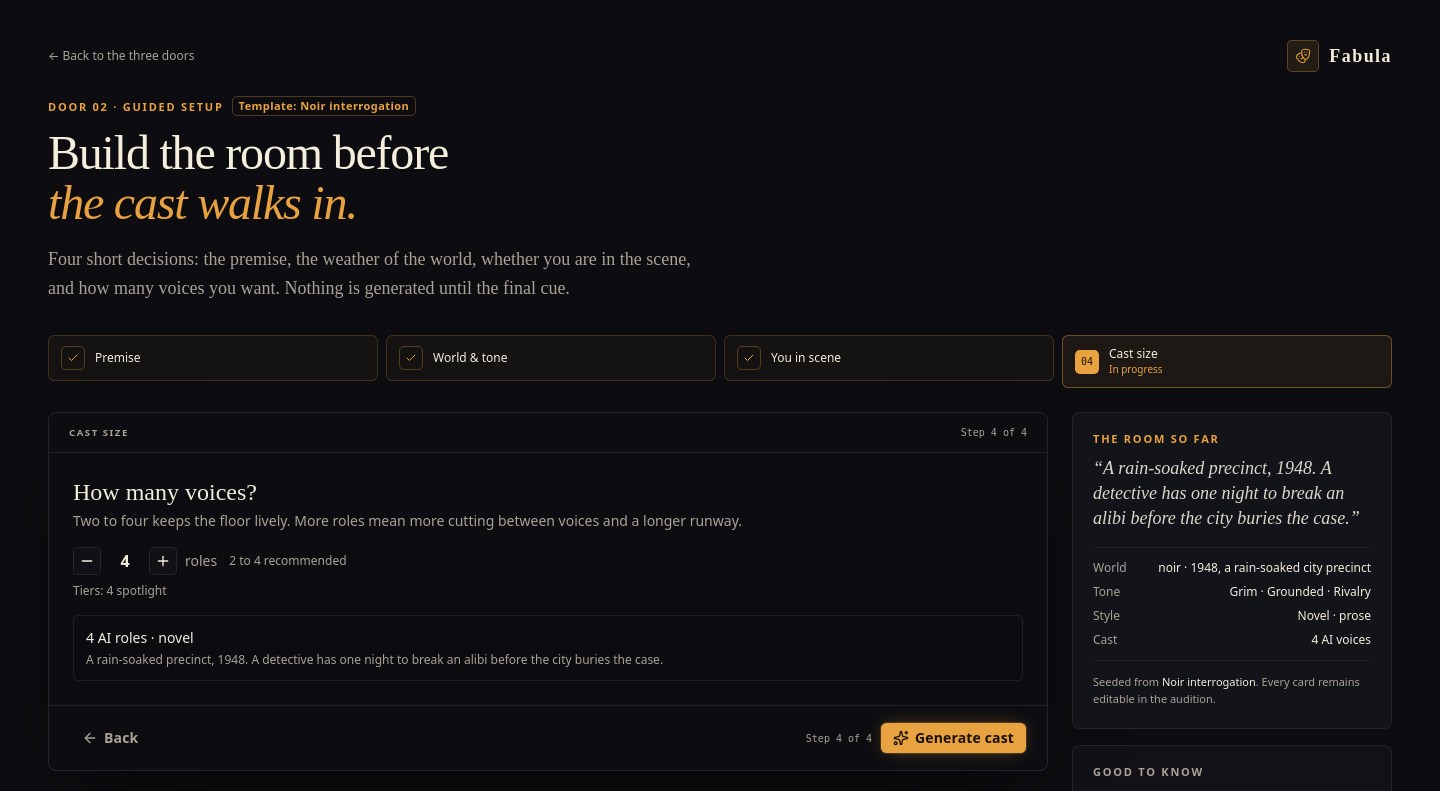
Scenario: guided wizard › cast step generates the troupe and hands off to the audition
expect the text "4 AI roles · novel" is shown: met, box x1=86 y1=628 x2=194 y2=647
Click the button "Generate cast". click: coordinates (954, 738)
box: x1=880 y1=722 x2=1027 y2=754
(page scrolled)
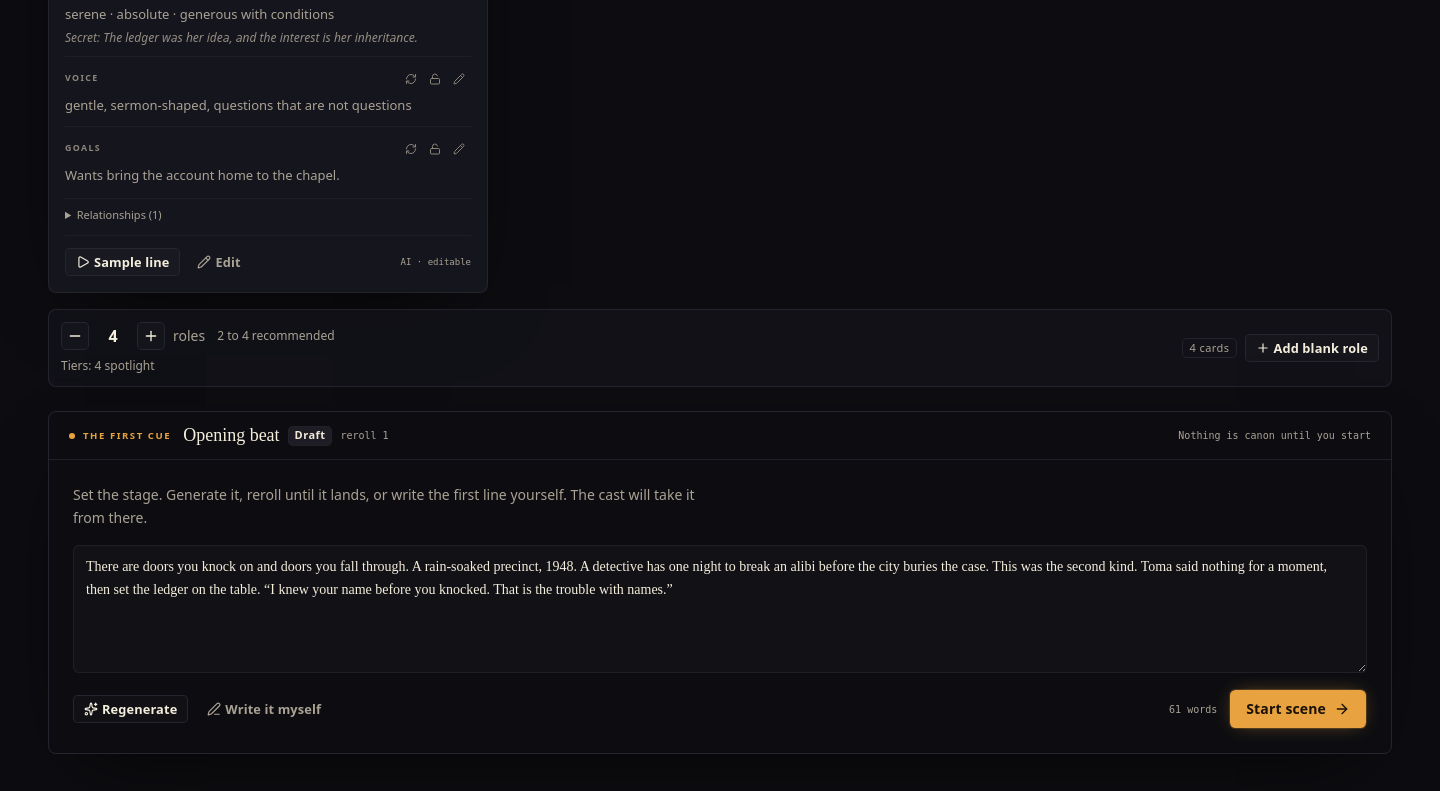
expect the text box named "Opening beat" is shown: met, box x1=73 y1=545 x2=1367 y2=673
